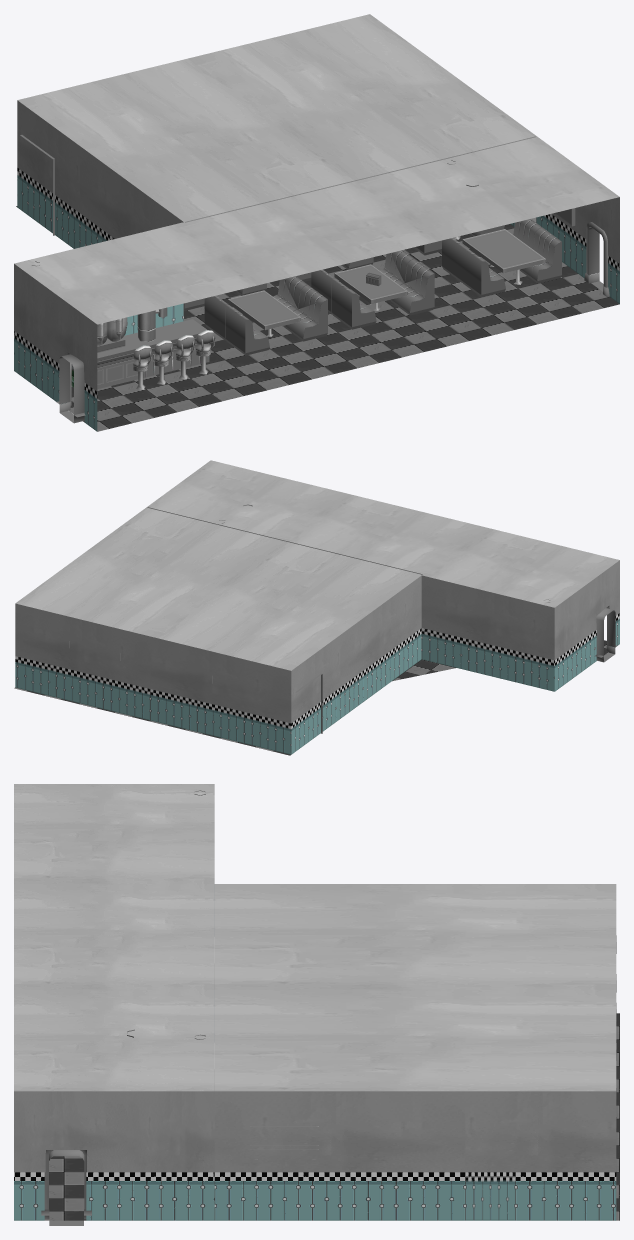
Rendered from MHS_Cafeteria_L3_R3_optimized.fbx.
3 renders of one model, top to bottom at view 1: azimuth 30°, elevation 25°; view 2: azimuth 150°, elevation 25°; view 3: azimuth 270°, elevation 25°, orthographic. The views are drawn at different scales.
Visible parts, largest first — view 1: lightmap0, lightmap1, lightmap-1; view 2: lightmap0, lightmap-1, lightmap1; view 3: lightmap0.
Boxes of the visible parts, box(x1,y1,x2,y2) form: lightmap0: box(14, 14, 619, 431); lightmap1: box(20, 135, 575, 405); lightmap-1: box(59, 227, 603, 423); lightmap0: box(14, 460, 619, 755); lightmap-1: box(596, 608, 615, 662); lightmap1: box(69, 504, 549, 733); lightmap0: box(14, 784, 619, 1220).
Bounding box in the file's own units: 30.91 × 5.94 × 24.92.
